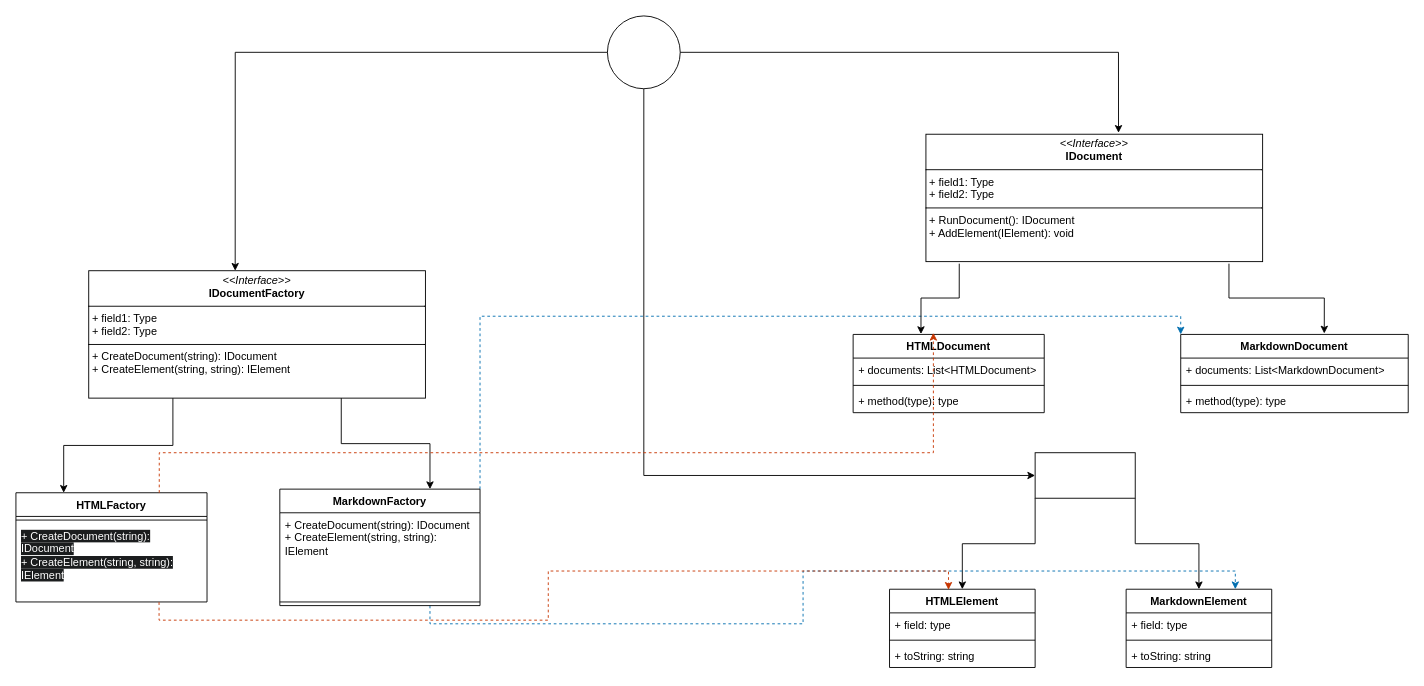
Image size: 1424x686. Some labels were removed from this diagram. Each missing label, with the centre of its shape:
"Program" goes at pixel 643 52.
"«interface» IElement" goes at pixel 1084 475.
